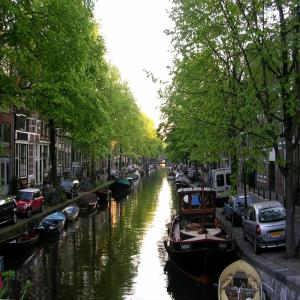Vehicle-registration-plate: (271, 232, 282, 239), (242, 209, 249, 216)
